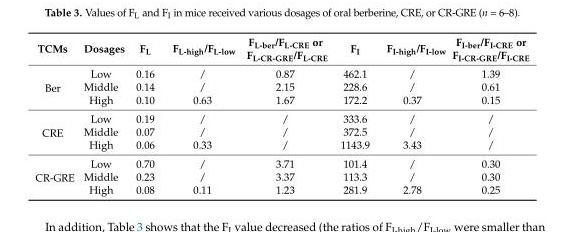table: (34, 35, 528, 195)
table column: (240, 35, 333, 195), (448, 35, 528, 195), (162, 35, 240, 195), (377, 35, 448, 195), (78, 35, 129, 195), (34, 35, 78, 195), (333, 35, 377, 195), (129, 35, 162, 195)
table column header: (34, 35, 528, 64)
table row: (34, 35, 528, 64), (34, 92, 528, 108), (34, 108, 528, 124), (34, 137, 528, 153), (34, 153, 528, 169), (34, 64, 528, 79), (34, 79, 528, 92), (34, 124, 528, 137), (34, 169, 528, 182), (34, 182, 528, 195)
table spanning cell: (34, 108, 78, 153), (34, 64, 78, 108), (34, 153, 78, 195)
